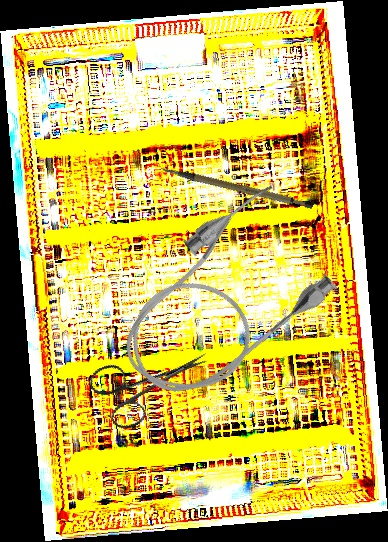Cannula: (92, 173, 351, 425)
Iris Scissors: (85, 325, 221, 436)
Scalpel Handle: (160, 143, 316, 229)
